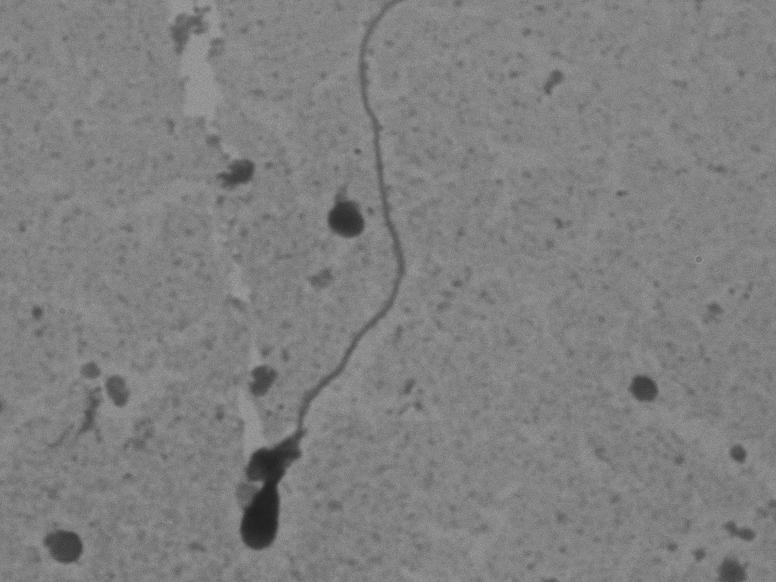Abnormal: (209, 8, 456, 560)
